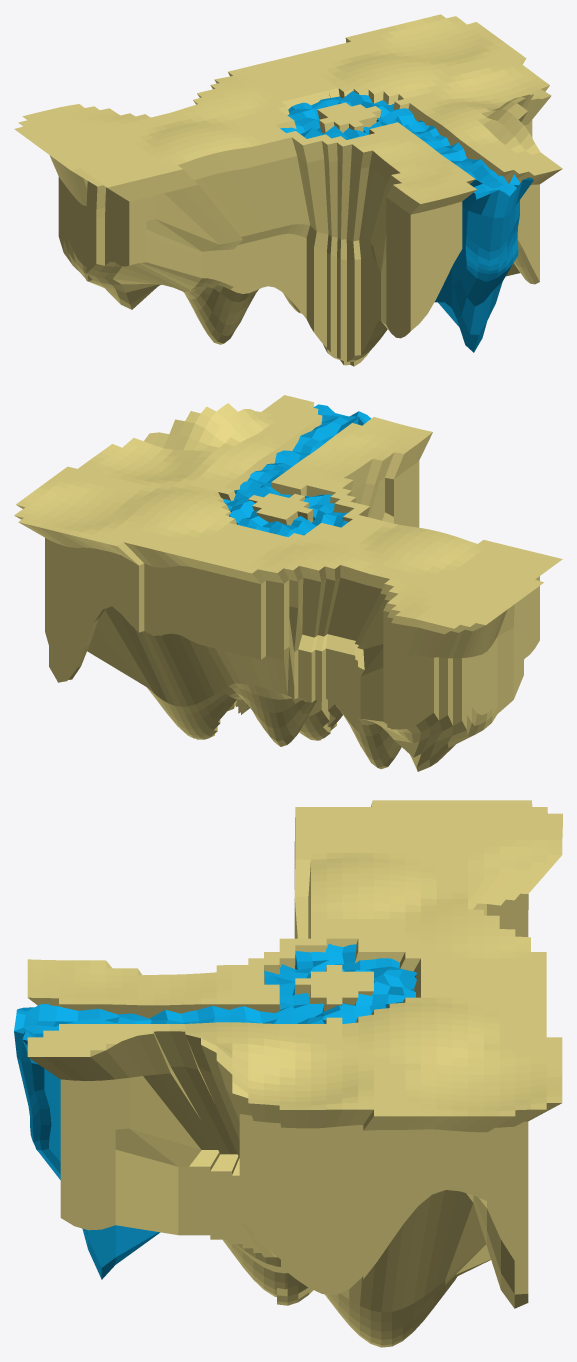
File: ile été2.FBX
3 views of the same model, one above another, from view 1: azimuth 30°, elevation 25°; view 2: azimuth 150°, elevation 25°; view 3: azimuth 270°, elevation 25° (orthographic). The views are drawn at different scales.
Visible parts, largest first — view 1: Ile été; view 2: Ile été; view 3: Ile été.
Boxes of the visible parts, box(x1,y1,x2,y2) form: Ile été: box(14, 14, 562, 366); Ile été: box(14, 395, 562, 771); Ile été: box(14, 800, 562, 1347).
Bounding box in the file's own units: 490 × 266 × 360.
